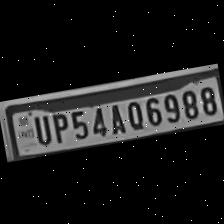4: (86, 100, 108, 136)
5: (65, 104, 89, 140)
6: (140, 92, 162, 126)
8: (194, 81, 218, 116), (177, 84, 200, 119)
9: (158, 88, 181, 122)
A: (102, 99, 125, 135)
P: (48, 108, 70, 143)
Q: (121, 95, 144, 130)
U: (28, 110, 52, 146)
